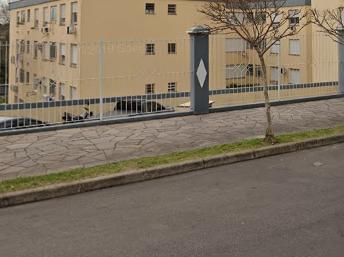vag6: (1, 130, 227, 233)
